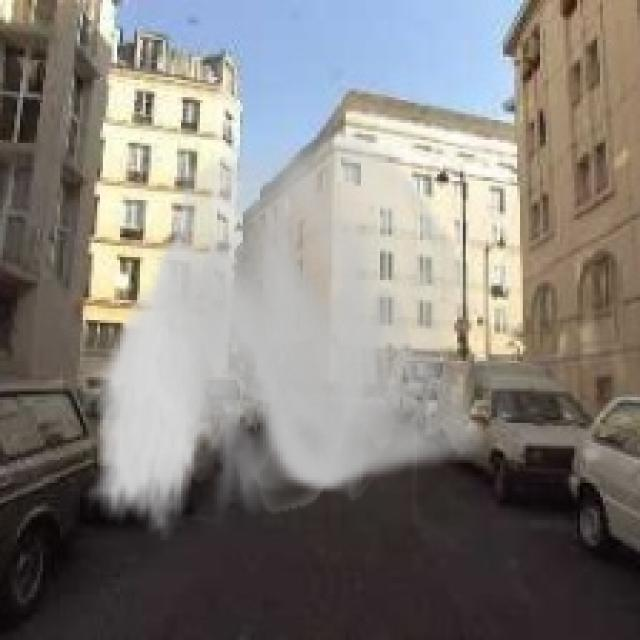Smoke: (88, 120, 486, 540)
